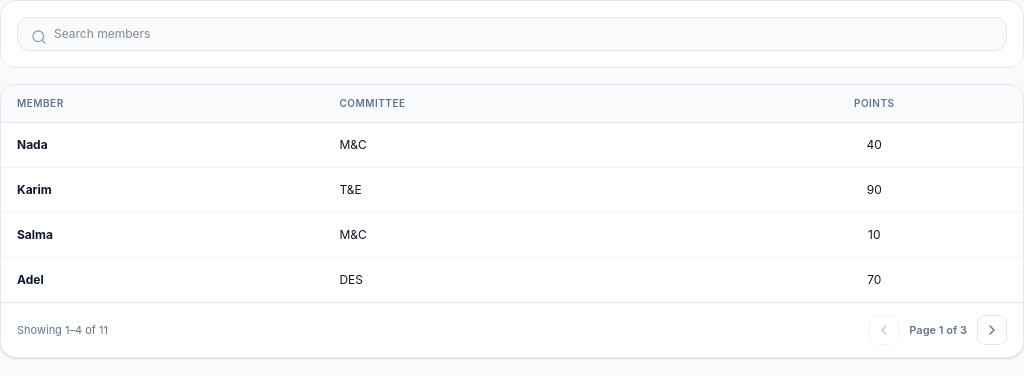
Scenario: the table on a desktop viewport › keeps a filter that empties the list on the same page it was on
The image size is (1024, 376).
What coordinates should you click on to do the following:
click the button named "Next page"
I would click on:
 (992, 330)
Its box is [977, 315, 1007, 345].
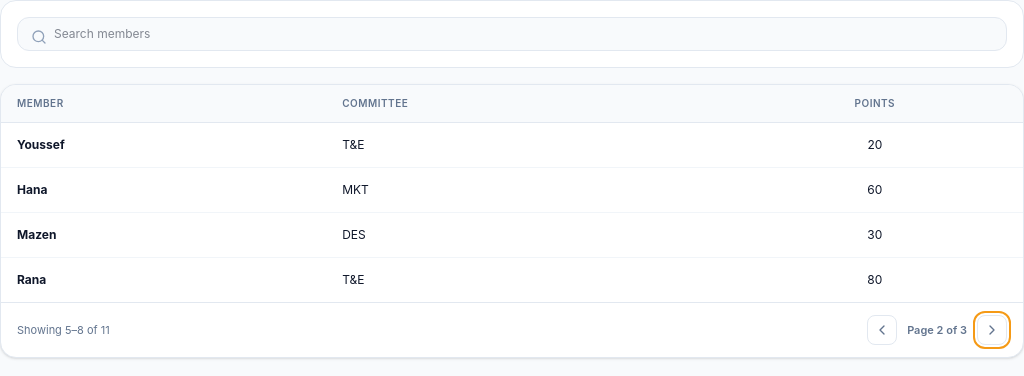
Check: the text "Showing 5–8 of 11" is shown, box [17, 322, 110, 339]
